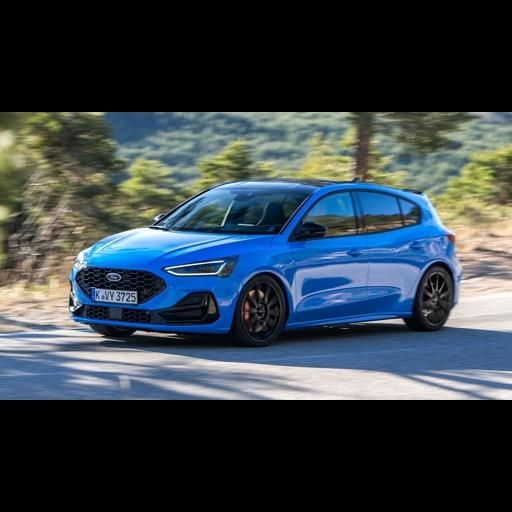hatchback: (70, 179, 460, 345)
